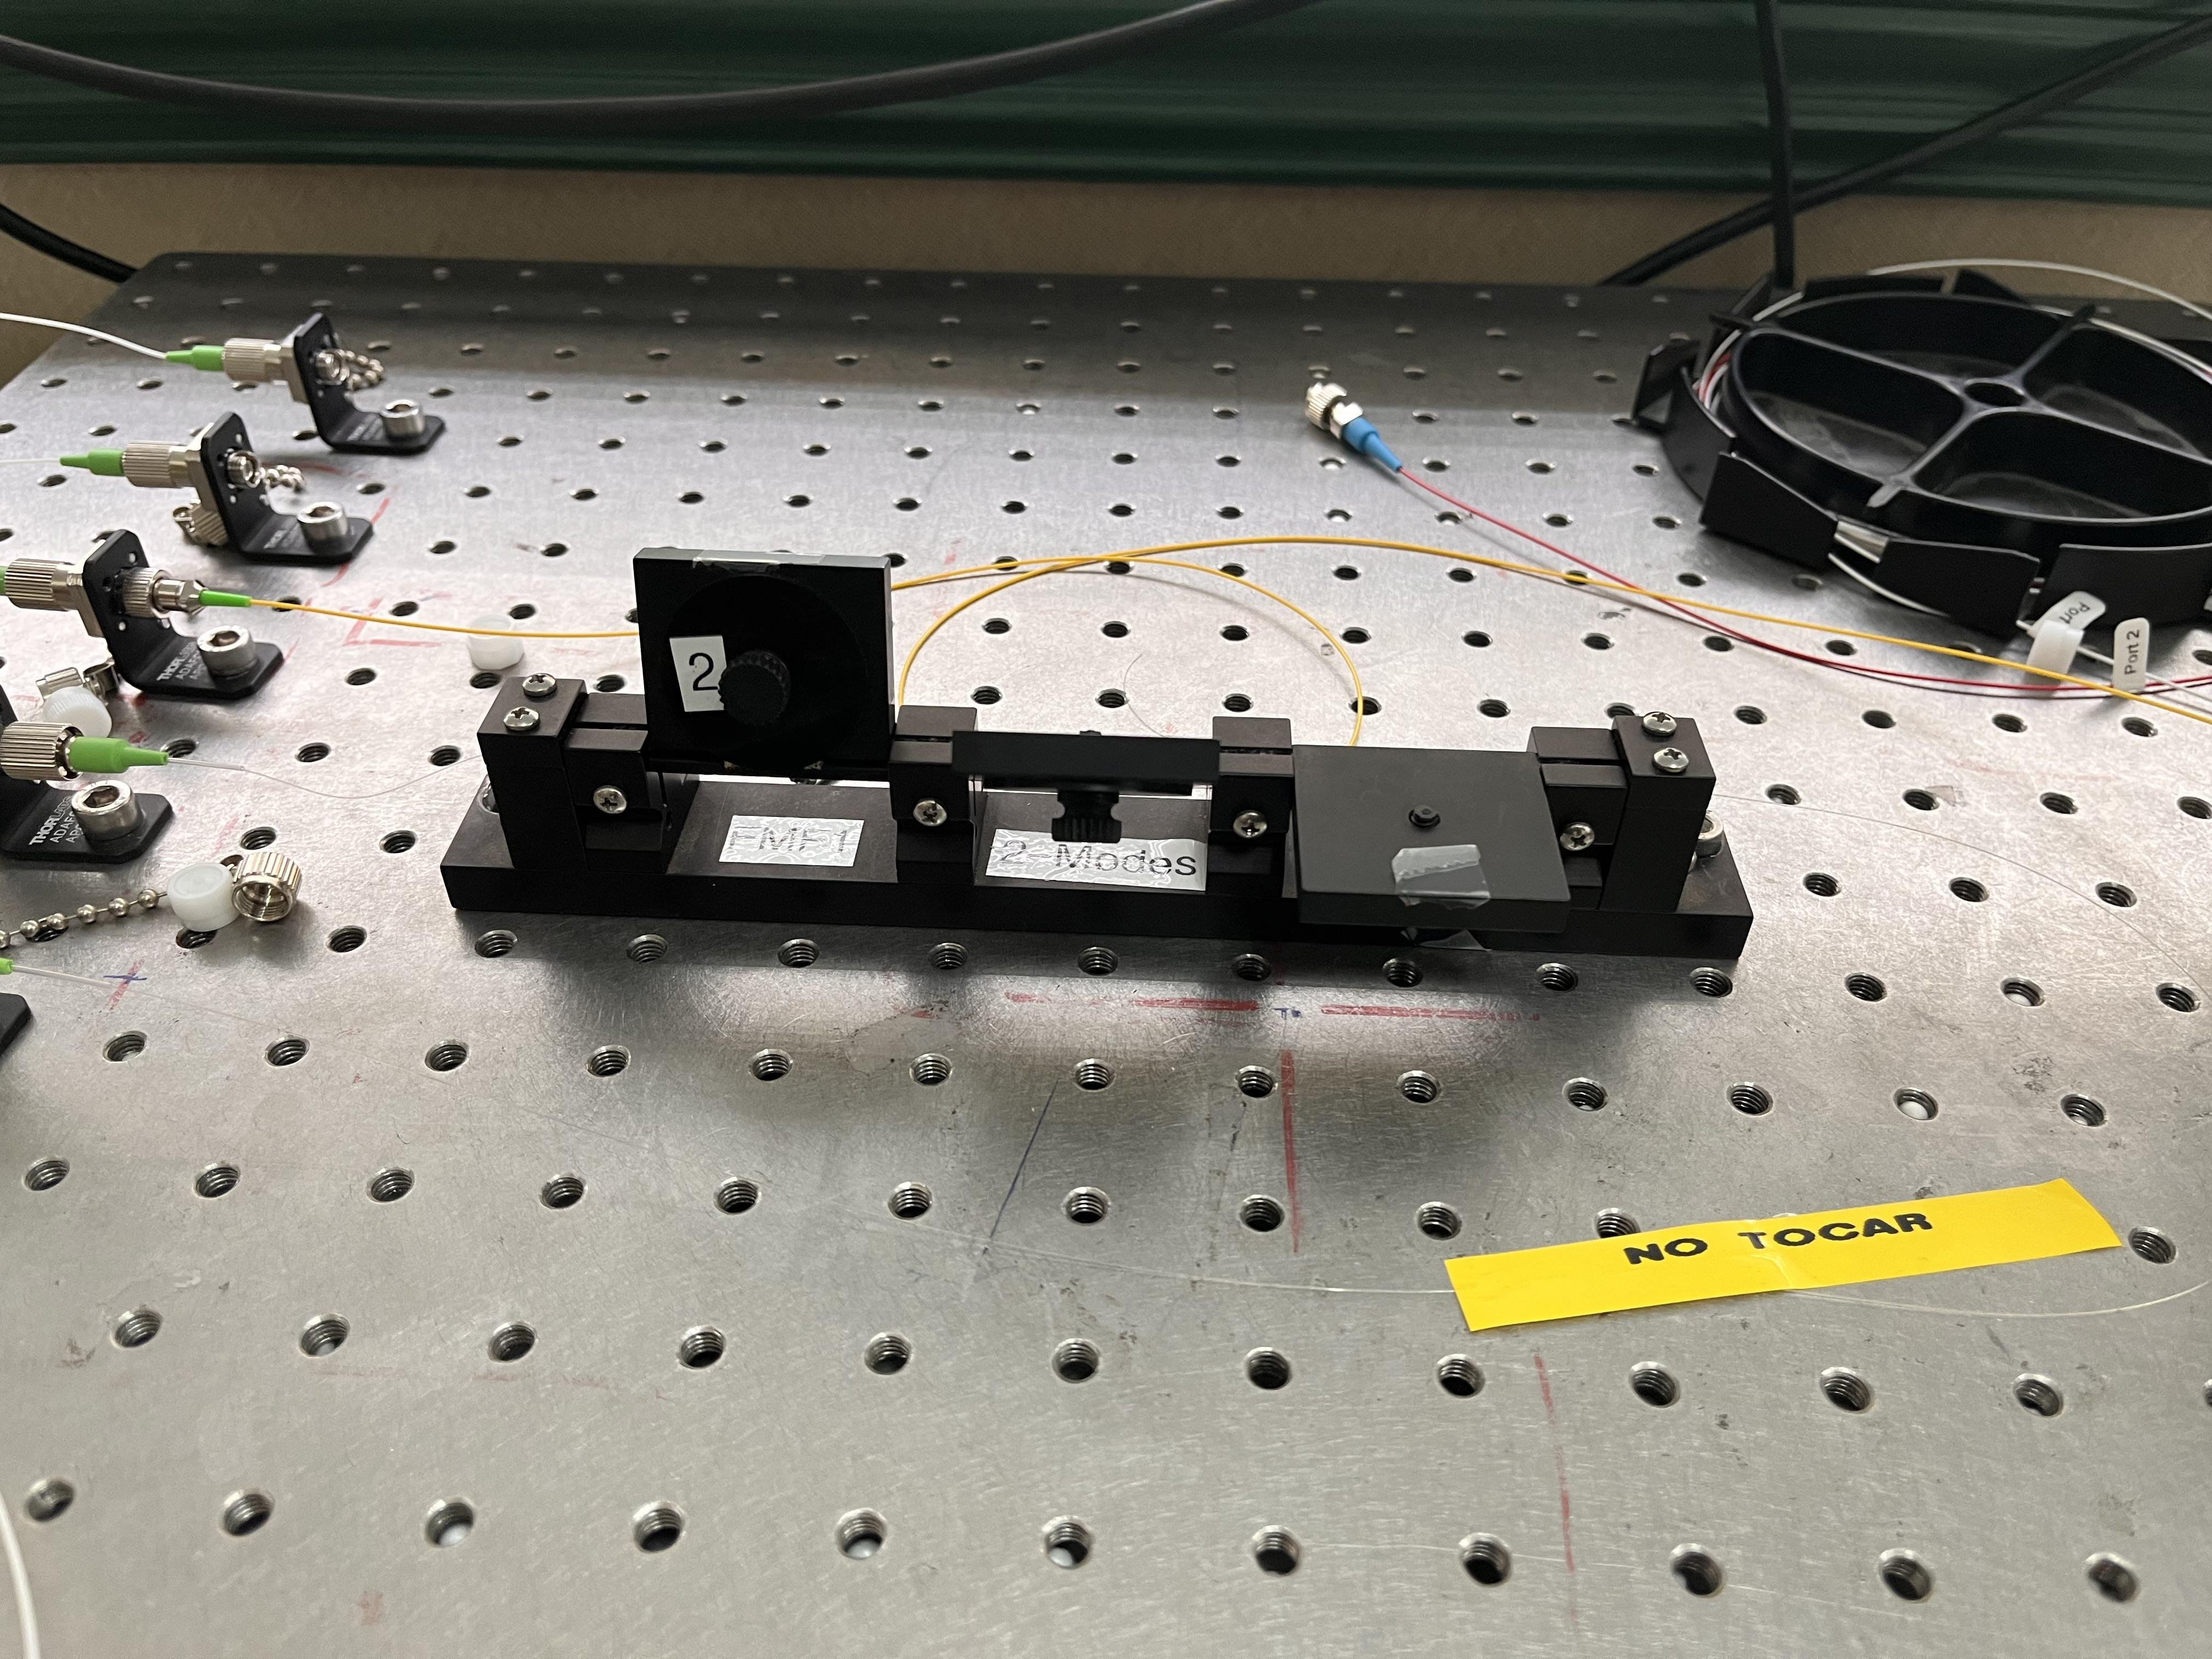paddle_polarization_controller: (434, 537, 1761, 964)
